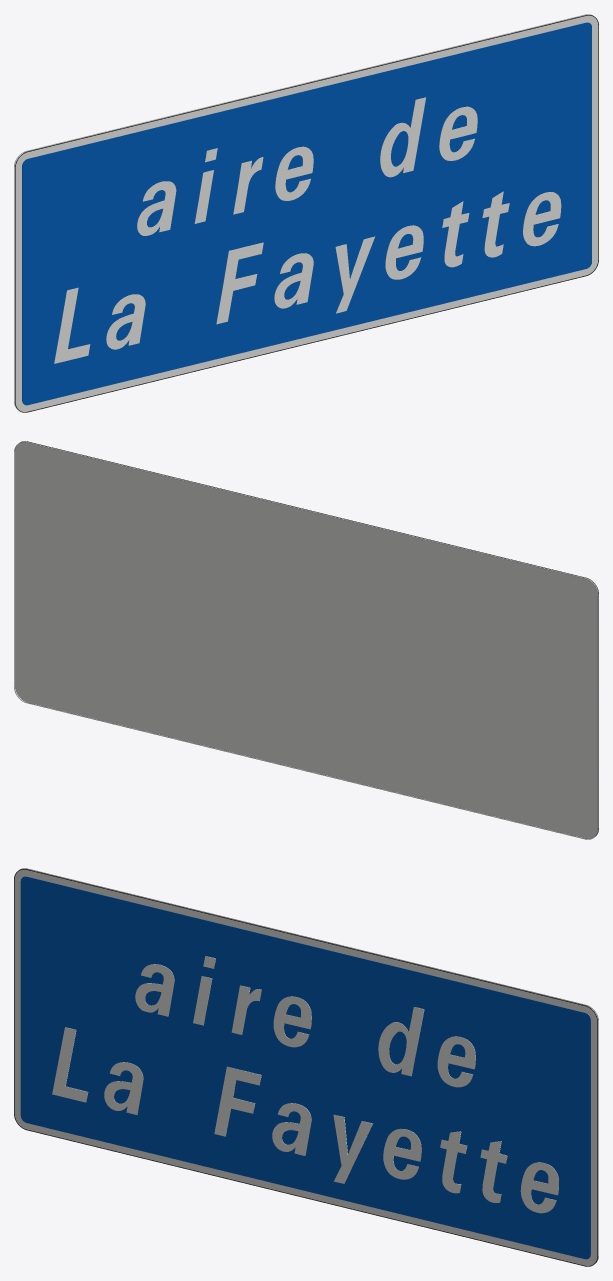
3 renders of one model, top to bottom at view 1: azimuth 30°, elevation 25°; view 2: azimuth 150°, elevation 25°; view 3: azimuth 330°, elevation 25°, orthographic.
Visible parts, largest first — view 1: D46a_p02, D46a_p00, D46a_p04, D46a_p03, D46a_p01, D46a_dos; view 2: D46a_p00, D46a_dos, D46a_p01; view 3: D46a_p02, D46a_p00, D46a_p04, D46a_p03, D46a_p01, D46a_dos.
Boxes of the visible parts, left/top/right/bottom form: D46a_p02: left=22, top=22, right=591, bottom=405; D46a_p00: left=15, top=15, right=598, bottom=411; D46a_p04: left=54, top=191, right=561, bottom=363; D46a_p03: left=137, top=97, right=477, bottom=235; D46a_p01: left=15, top=15, right=598, bottom=412; D46a_dos: left=14, top=14, right=592, bottom=409; D46a_p00: left=15, top=441, right=598, bottom=838; D46a_dos: left=14, top=442, right=597, bottom=839; D46a_p01: left=20, top=441, right=598, bottom=838; D46a_p02: left=20, top=876, right=590, bottom=1259; D46a_p00: left=14, top=869, right=597, bottom=1265; D46a_p04: left=52, top=1027, right=558, bottom=1213; D46a_p03: left=135, top=956, right=475, bottom=1087; D46a_p01: left=14, top=869, right=597, bottom=1266; D46a_dos: left=20, top=868, right=598, bottom=1263.
Bounding box in the file's own units: 0.7 × 0.2989 × 0.0035.
